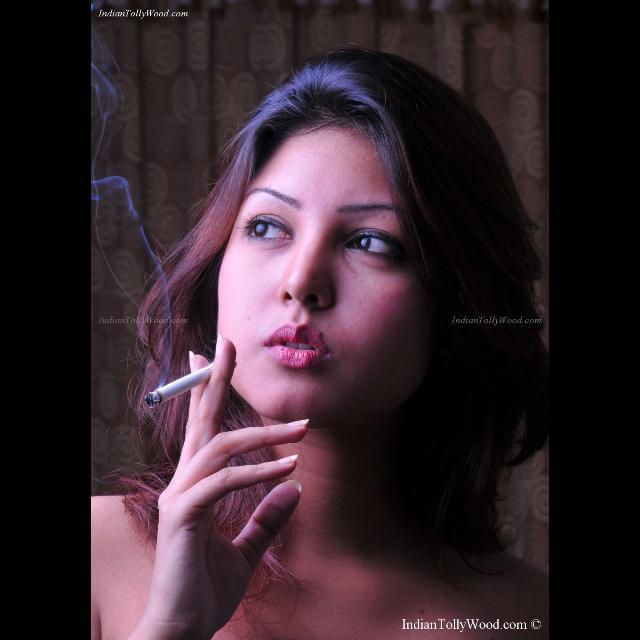rokok: (146, 364, 220, 408)
